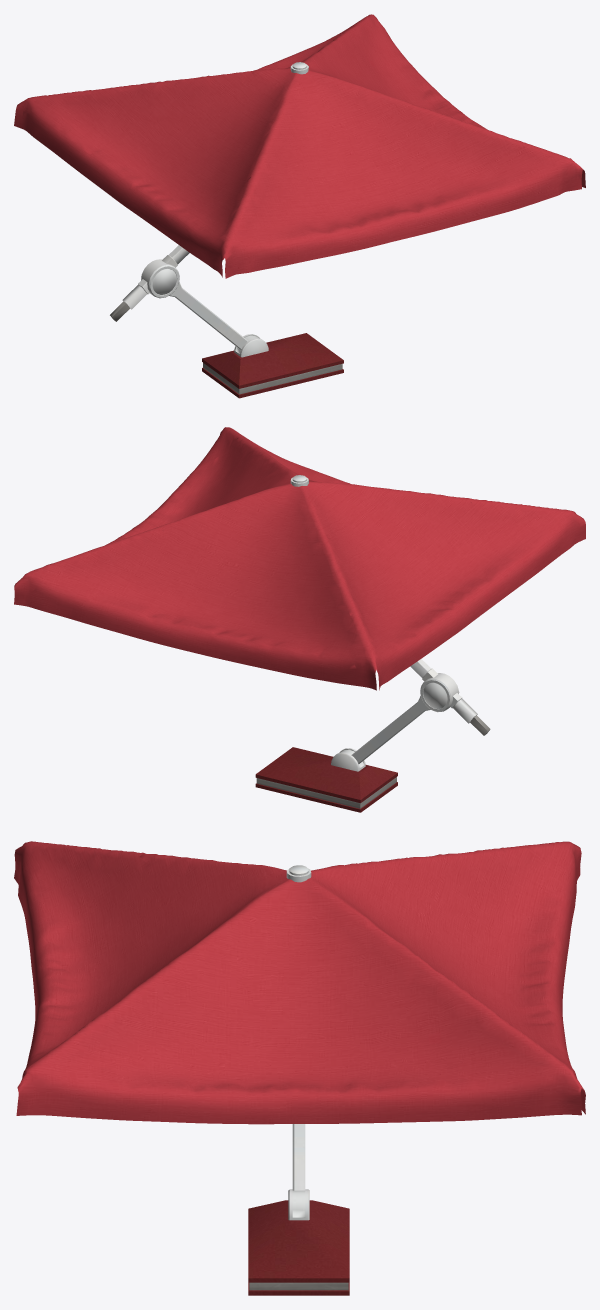
File: cargo_sunshade.glb
3 views of the same model, one above another, from view 1: azimuth 30°, elevation 25°; view 2: azimuth 150°, elevation 25°; view 3: azimuth 270°, elevation 25° (orthographic). The views are drawn at different scales.
Visible parts, largest first — view 1: KB3D_ATP_PropUmbrella_B_Main; view 2: KB3D_ATP_PropUmbrella_B_Main; view 3: KB3D_ATP_PropUmbrella_B_Main.
Boxes of the visible parts, left/top/right/bottom form: KB3D_ATP_PropUmbrella_B_Main: left=14, top=14, right=585, bottom=398; KB3D_ATP_PropUmbrella_B_Main: left=14, top=427, right=585, bottom=812; KB3D_ATP_PropUmbrella_B_Main: left=14, top=841, right=585, bottom=1295.
Size of the model in its own units: 4.5 by 3.48 by 4.41.
Materials: 4 (4 with a texture image).
